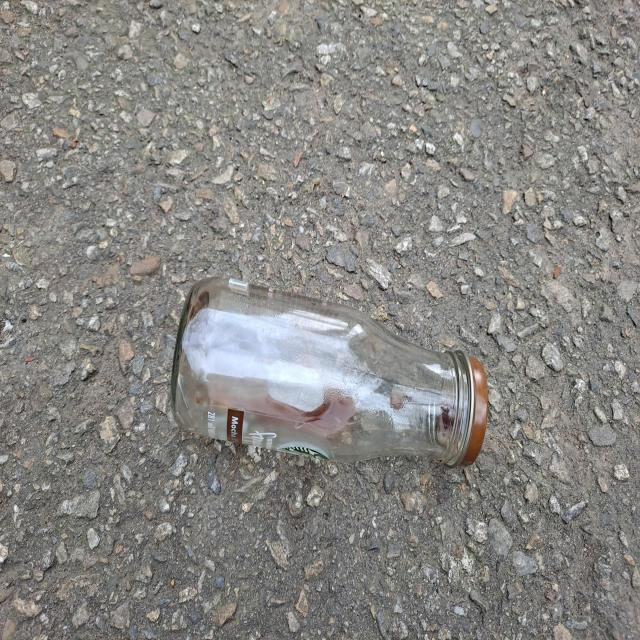glass: (171, 278, 489, 467)
